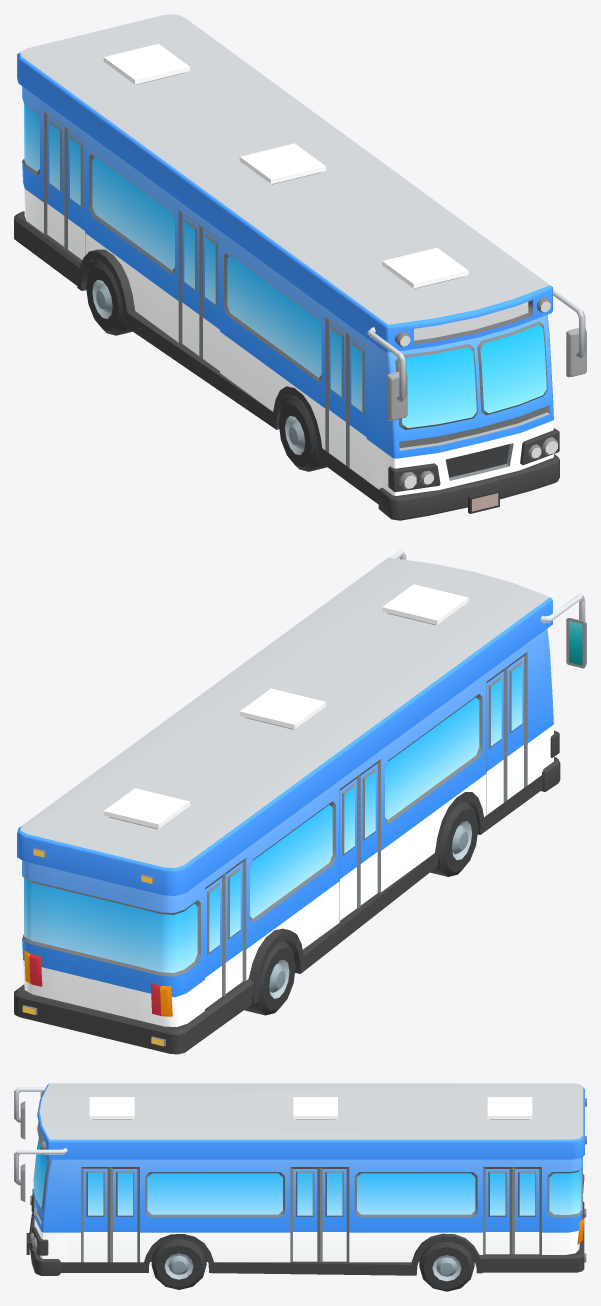
Rendered from City_Bus_01.glb.
3 renders of one model, top to bottom at view 1: azimuth 30°, elevation 25°; view 2: azimuth 150°, elevation 25°; view 3: azimuth 270°, elevation 25°, orthographic. The views are drawn at different scales.
Visible parts, largest first — view 1: City_Bus_01, Wheel_241, Wheel_242; view 2: City_Bus_01, Wheel_241, Wheel_242; view 3: City_Bus_01, Wheel_243, Wheel_244.
Boxes of the visible parts, bbox=[...] form: City_Bus_01: bbox=[14, 14, 586, 520]; Wheel_241: bbox=[278, 396, 326, 471]; Wheel_242: bbox=[86, 260, 132, 335]; City_Bus_01: bbox=[14, 550, 586, 1054]; Wheel_241: bbox=[430, 801, 478, 876]; Wheel_242: bbox=[244, 940, 295, 1015]; City_Bus_01: bbox=[14, 1083, 586, 1275]; Wheel_243: bbox=[151, 1239, 206, 1289]; Wheel_244: bbox=[419, 1242, 474, 1291].
Bounding box in the file's own units: 3.05 × 3.21 × 10.67.
Materials: 2 (2 with a texture image).
